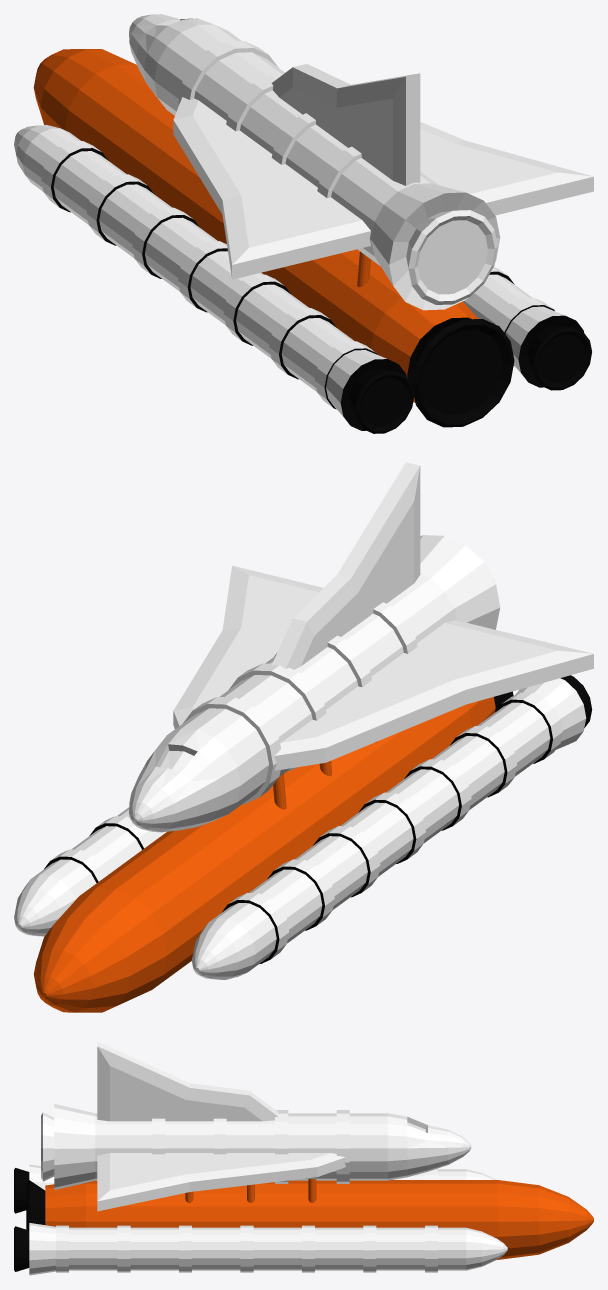
The model's file is Rocket.obj.
3 renders of one model, top to bottom at view 1: azimuth 30°, elevation 25°; view 2: azimuth 150°, elevation 25°; view 3: azimuth 270°, elevation 25°, orthographic. The views are drawn at different scales.
Visible parts, largest first — view 1: Cylinder.005_Material.002; view 2: Cylinder.005_Material.002; view 3: Cylinder.005_Material.002.
Boxes of the visible parts, <box> form: Cylinder.005_Material.002: <box>14,14,593,433</box>; Cylinder.005_Material.002: <box>14,462,593,1012</box>; Cylinder.005_Material.002: <box>14,1041,593,1275</box>.
Bounding box in the file's own units: 4.58 × 3.81 × 9.43.
